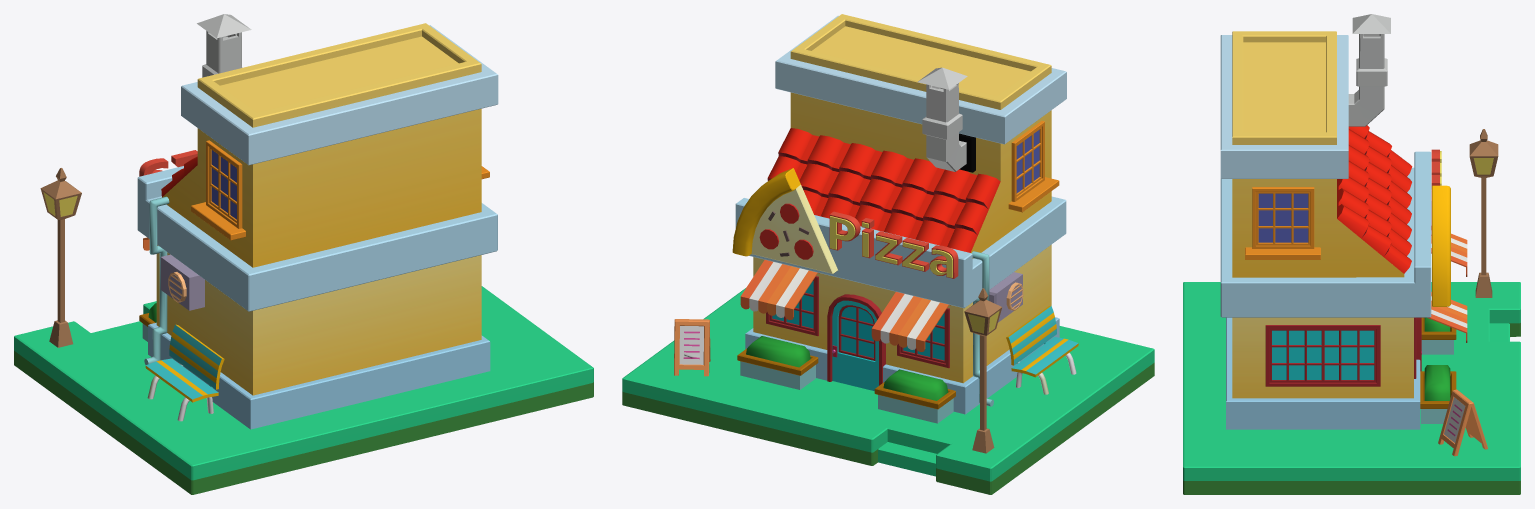
The picture shows the model from 3 angles, left to right: view 1: azimuth 30°, elevation 25°; view 2: azimuth 150°, elevation 25°; view 3: azimuth 270°, elevation 25°; orthographic projection. The views are drawn at different scales.
Parts seen in each view (by area): view 1: pizzahouse_05, pizzahouse_16, pizzahouse_01, pizzahouse_02, pizzahouse_06, pizzahouse_03, pizzahouse_24, pizzahouse_21, pizzahouse_09, pizzahouse_18, pizzahouse_07, pizzahouse_14 (+3 smaller); view 2: pizzahouse_16, pizzahouse_05, pizzahouse_15, pizzahouse_02, pizzahouse_06, pizzahouse_12, pizzahouse_23, pizzahouse_04, pizzahouse_07, pizzahouse_24, pizzahouse_10, pizzahouse_21 (+13 smaller); view 3: pizzahouse_16, pizzahouse_05, pizzahouse_02, pizzahouse_25, pizzahouse_15, pizzahouse_13, pizzahouse_06, pizzahouse_03, pizzahouse_26, pizzahouse_07, pizzahouse_12, pizzahouse_09 (+7 smaller).
Part boxes in pixels (left/top/right/bottom): pizzahouse_05: left=162, top=23, right=481, bottom=267; pizzahouse_16: left=14, top=286, right=593, bottom=494; pizzahouse_01: left=253, top=255, right=481, bottom=395; pizzahouse_02: left=137, top=166, right=497, bottom=311; pizzahouse_06: left=181, top=25, right=498, bottom=165; pizzahouse_03: left=148, top=322, right=490, bottom=429; pizzahouse_24: left=156, top=245, right=252, bottom=395; pizzahouse_21: left=145, top=324, right=224, bottom=421; pizzahouse_09: left=40, top=168, right=81, bottom=347; pizzahouse_18: left=206, top=140, right=242, bottom=228; pizzahouse_07: left=197, top=14, right=251, bottom=77; pizzahouse_14: left=160, top=254, right=204, bottom=310; pizzahouse_16: left=622, top=288, right=1154, bottom=494; pizzahouse_05: left=790, top=14, right=1051, bottom=258; pizzahouse_15: left=767, top=128, right=1000, bottom=252; pizzahouse_02: left=735, top=196, right=1066, bottom=308; pizzahouse_06: left=775, top=15, right=1066, bottom=144; pizzahouse_12: left=732, top=168, right=837, bottom=273; pizzahouse_23: left=753, top=257, right=963, bottom=382; pizzahouse_04: left=827, top=294, right=885, bottom=390; pizzahouse_07: left=917, top=67, right=975, bottom=172; pizzahouse_24: left=963, top=244, right=1051, bottom=382; pizzahouse_10: left=829, top=211, right=958, bottom=278; pizzahouse_21: left=1006, top=306, right=1078, bottom=394; pizzahouse_16: left=1183, top=282, right=1520, bottom=494; pizzahouse_05: left=1232, top=31, right=1404, bottom=277; pizzahouse_02: left=1220, top=151, right=1431, bottom=317; pizzahouse_25: left=1232, top=317, right=1413, bottom=398; pizzahouse_15: left=1337, top=125, right=1412, bottom=273; pizzahouse_13: left=1265, top=325, right=1380, bottom=386; pizzahouse_06: left=1220, top=35, right=1348, bottom=178; pizzahouse_03: left=1226, top=317, right=1420, bottom=429; pizzahouse_26: left=1252, top=187, right=1314, bottom=248; pizzahouse_07: left=1348, top=14, right=1390, bottom=126; pizzahouse_12: left=1432, top=185, right=1450, bottom=306; pizzahouse_09: left=1469, top=129, right=1498, bottom=297.
Bounding box in the file's own units: 9.5 × 8.48 × 7.29.
